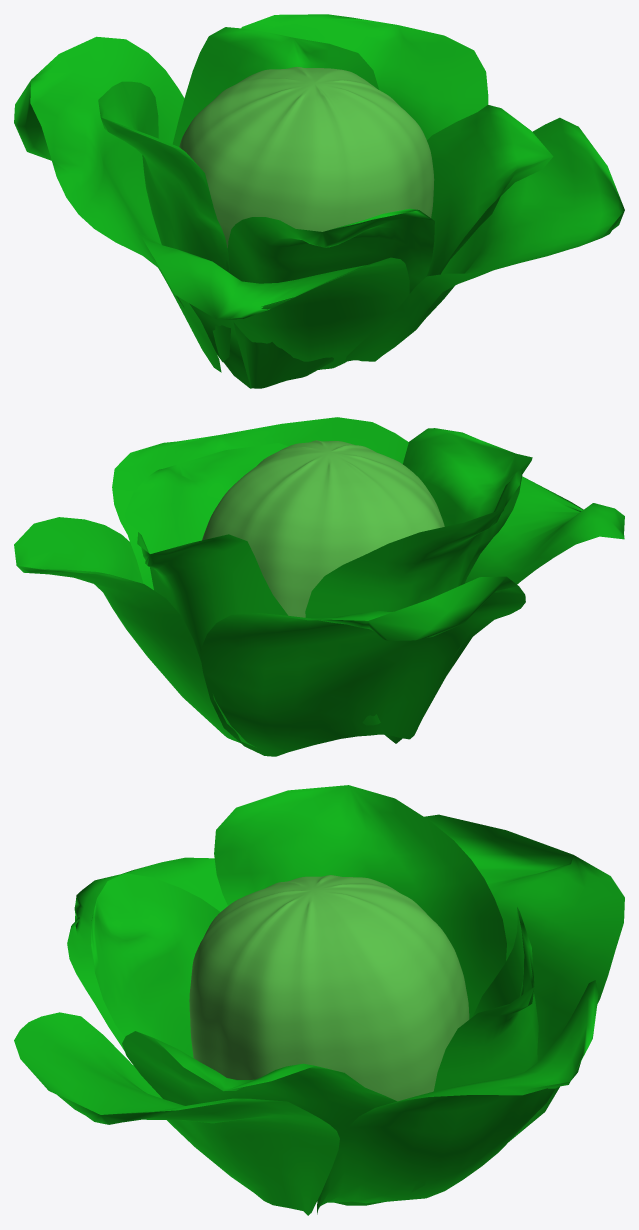
File: Cabbage.fbx
The picture shows the model from 3 angles, top to bottom: view 1: azimuth 30°, elevation 25°; view 2: azimuth 150°, elevation 25°; view 3: azimuth 270°, elevation 25°; orthographic projection. The views are drawn at different scales.
Parts seen in each view (by area): view 1: Carbege.001; view 2: Carbege.001; view 3: Carbege.001.
Part boxes in pixels (x1,y1,x2,y2): Carbege.001: (14, 14, 624, 388); Carbege.001: (14, 417, 624, 756); Carbege.001: (14, 785, 624, 1215).
Bounding box in the file's own units: 133 × 80.41 × 142.
